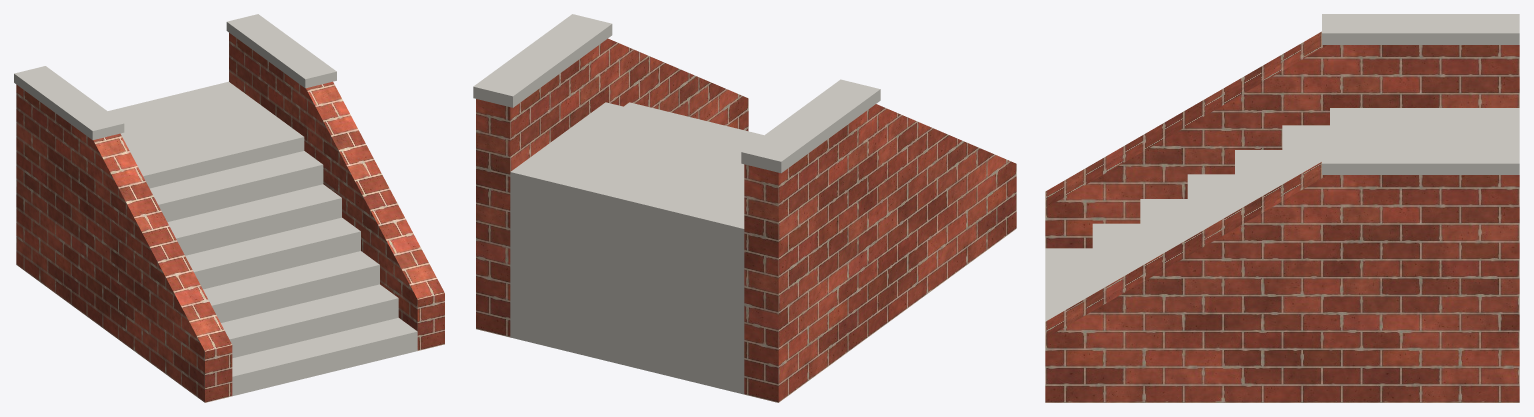
Rendered from stoop_a.glb.
The picture shows the model from 3 angles, left to right: view 1: azimuth 30°, elevation 25°; view 2: azimuth 150°, elevation 25°; view 3: azimuth 270°, elevation 25°; orthographic projection. The views are drawn at different scales.
Parts seen in each view (by area): view 1: stoop_a_lime, stoop_a_brick; view 2: stoop_a_brick, stoop_a_lime; view 3: stoop_a_brick, stoop_a_lime.
Part boxes in pixels (left/top/right/bottom): stoop_a_lime: left=14, top=14, right=417, bottom=396; stoop_a_brick: left=16, top=33, right=444, bottom=402; stoop_a_brick: left=476, top=38, right=1016, bottom=402; stoop_a_lime: left=473, top=14, right=880, bottom=394; stoop_a_brick: left=1045, top=31, right=1519, bottom=402; stoop_a_lime: left=1045, top=14, right=1519, bottom=321.
Size of the model in its own units: 2.24 by 1.68 by 3.
2 materials, 1 textured.
